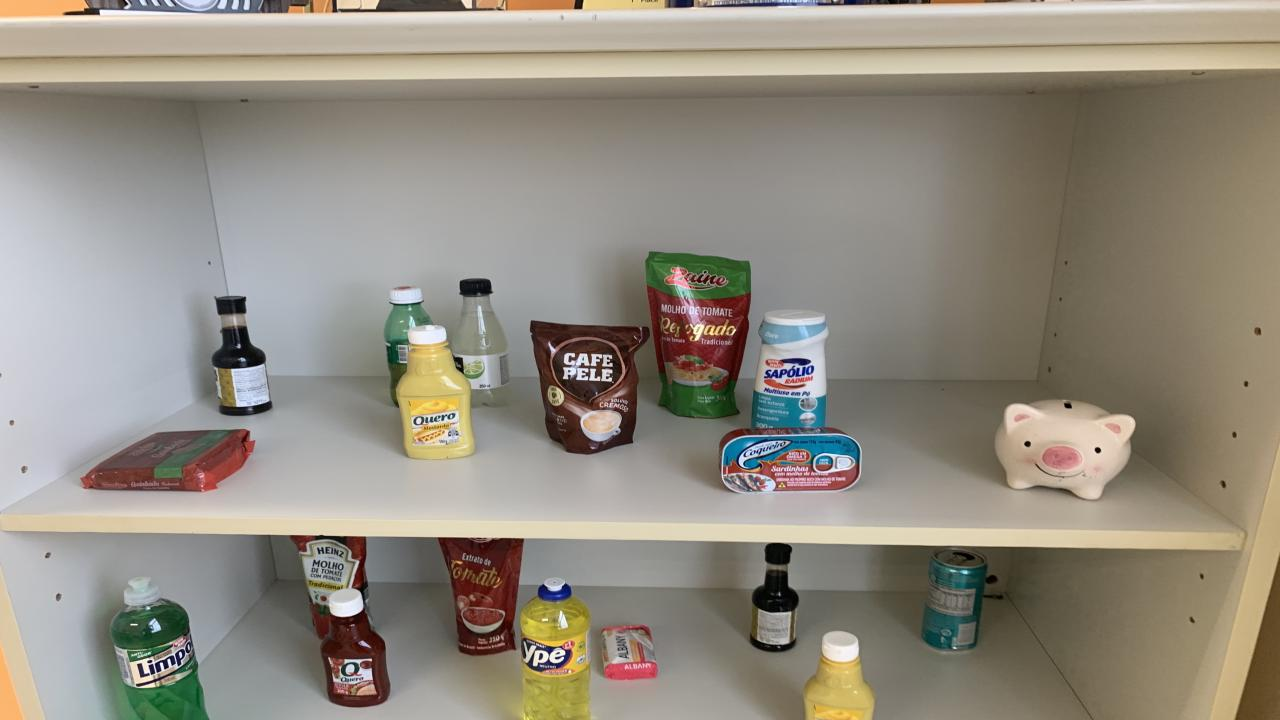Cleaner-Cleanup_Items: (750, 309, 830, 428)
Coffee-Pantry_Items: (530, 321, 650, 454)
Detergent-Cleanup_Items: (110, 578, 208, 720), (520, 578, 590, 718)
English_Sauce-Pantry_Items: (212, 296, 272, 416), (750, 544, 798, 652)
Guarana-Drinks: (385, 287, 432, 403)
Guava-Snacks: (82, 429, 255, 491)
Ketchup-Pantry_Items: (320, 589, 390, 707)
Mustard-Pantry_Items: (395, 324, 475, 459), (805, 632, 875, 720)
Pig_Safe-Miscellaneous: (995, 399, 1135, 499)
Soap-Cleanup_Items: (602, 624, 658, 681)
Soda-Drinks: (450, 278, 510, 407)
Tea-Drinks: (922, 548, 988, 651)
Tomato_Sauce-Pantry_Items: (645, 251, 750, 418), (440, 538, 522, 654), (290, 534, 368, 638)
Tuna_Can-Pantry_Items: (720, 428, 862, 493)
